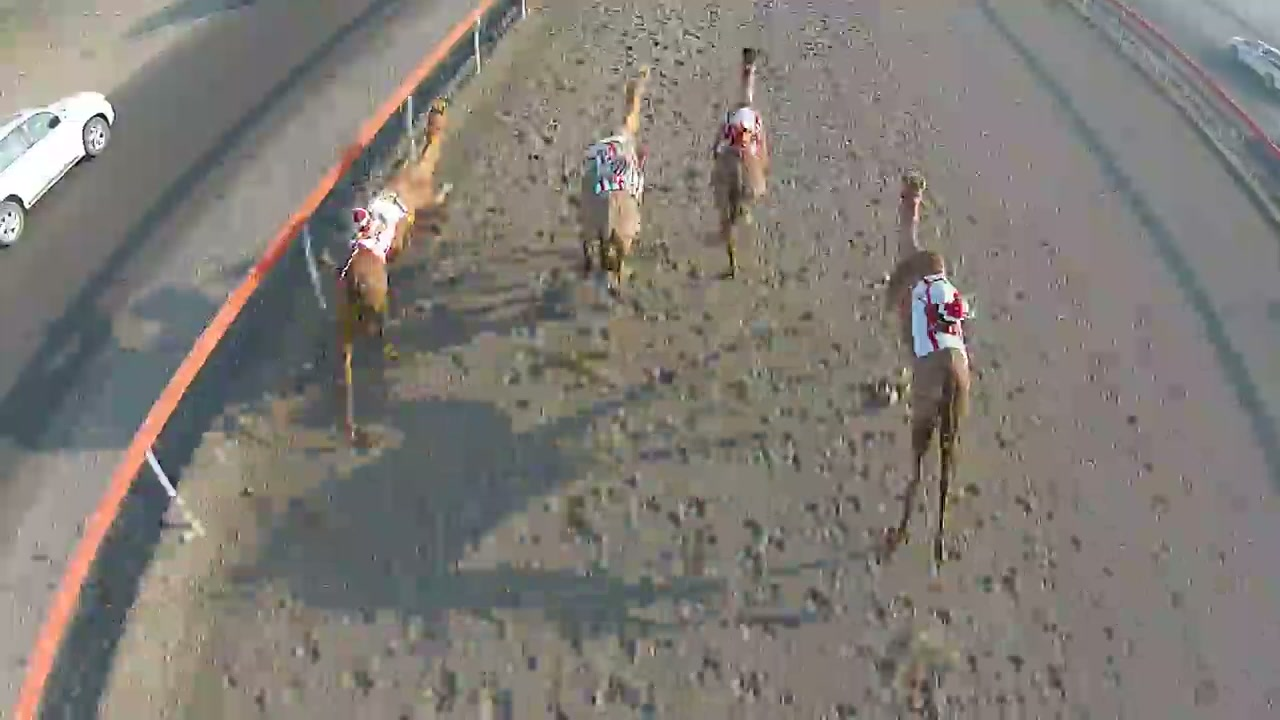animal_footprint: (435, 233, 1073, 717)
